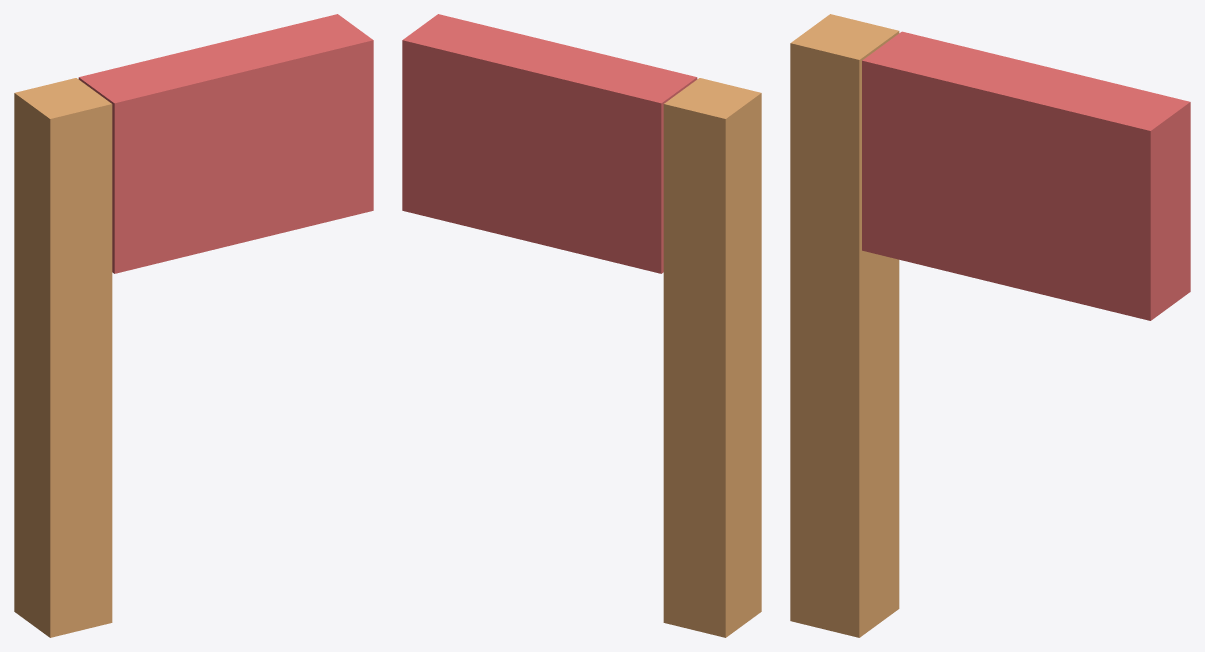
The model's file is flag.gltf.
The picture shows the model from 3 angles, left to right: view 1: azimuth 30°, elevation 25°; view 2: azimuth 150°, elevation 25°; view 3: azimuth 330°, elevation 25°; orthographic projection. The views are drawn at different scales.
Parts seen in each view (by area): view 1: Cube (×2); view 2: Cube (×2); view 3: Cube (×2).
Boxes of the visible parts, box(x1,y1,x2,y2) form: Cube (×2): box(14, 14, 373, 637); Cube (×2): box(402, 14, 761, 637); Cube (×2): box(790, 14, 1190, 637).
Bounding box in the file's own units: 0.5218 × 0.8 × 0.1.
